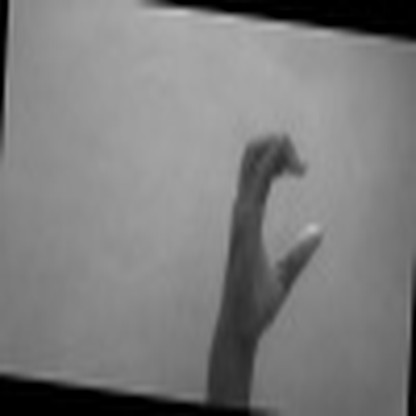c: (218, 125, 327, 312)
